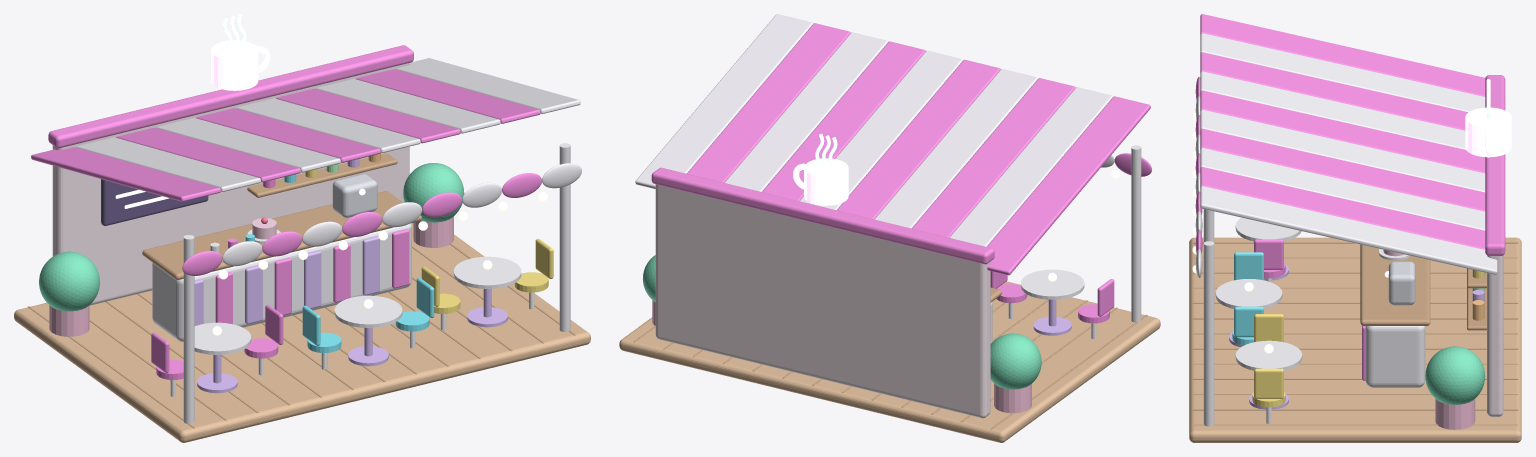
Rendered from chat-cafe.glb.
3 renders of one model, left to right at view 1: azimuth 30°, elevation 25°; view 2: azimuth 150°, elevation 25°; view 3: azimuth 270°, elevation 25°, orthographic. The views are drawn at different scales.
Parts seen in each view (by area): view 1: deck, back_wall, counter, wall_trim, counter_top, awning_0, awning_9, awning_6, awning_7, awning_8, awning_5, awning_4 (+44 smaller); view 2: back_wall, deck, awning_0, awning_9, awning_2, awning_1, awning_7, awning_3, awning_8, awning_4, wall_trim, awning_6 (+8 smaller); view 3: deck, awning_9, awning_0, awning_6, awning_7, awning_5, awning_8, awning_4, awning_1, awning_2, awning_3, counter_top (+21 smaller).
Part boxes in pixels (x1=…): deck: x1=14, y1=223, x2=590, y2=442; back_wall: x1=52, y1=63, x2=409, y2=305; counter: x1=152, y1=223, x2=411, y2=341; wall_trim: x1=48, y1=45, x2=413, y2=148; counter_top: x1=142, y1=191, x2=421, y2=279; awning_0: x1=31, y1=147, x2=220, y2=201; awning_9: x1=396, y1=58, x2=580, y2=113; awning_6: x1=276, y1=88, x2=460, y2=143; awning_7: x1=316, y1=79, x2=500, y2=133; awning_8: x1=356, y1=69, x2=540, y2=123; awning_5: x1=236, y1=98, x2=420, y2=152; awning_4: x1=196, y1=108, x2=380, y2=162; back_wall: x1=655, y1=184, x2=990, y2=418; deck: x1=619, y1=281, x2=1160, y2=442; awning_0: x1=987, y1=96, x2=1150, y2=275; awning_9: x1=635, y1=14, x2=813, y2=188; awning_2: x1=912, y1=78, x2=1075, y2=237; awning_1: x1=949, y1=87, x2=1112, y2=246; awning_7: x1=724, y1=32, x2=888, y2=191; awning_3: x1=874, y1=69, x2=1038, y2=228; awning_8: x1=687, y1=23, x2=850, y2=182; awning_4: x1=837, y1=59, x2=1000, y2=219; wall_trim: x1=651, y1=167, x2=994, y2=264; awning_6: x1=762, y1=41, x2=925, y2=200; deck: x1=1189, y1=237, x2=1521, y2=442; awning_9: x1=1200, y1=186, x2=1497, y2=274; awning_0: x1=1200, y1=14, x2=1485, y2=96; awning_6: x1=1200, y1=128, x2=1485, y2=211; awning_7: x1=1200, y1=148, x2=1485, y2=230; awning_5: x1=1200, y1=109, x2=1485, y2=192; awning_8: x1=1200, y1=167, x2=1485, y2=249; awning_4: x1=1200, y1=90, x2=1485, y2=173; awning_1: x1=1200, y1=33, x2=1485, y2=112; awning_2: x1=1200, y1=52, x2=1467, y2=130; awning_3: x1=1200, y1=71, x2=1465, y2=149; counter_top: x1=1360, y1=244, x2=1430, y2=325.
Size of the model in its own units: 7.1 by 4.36 by 5.
